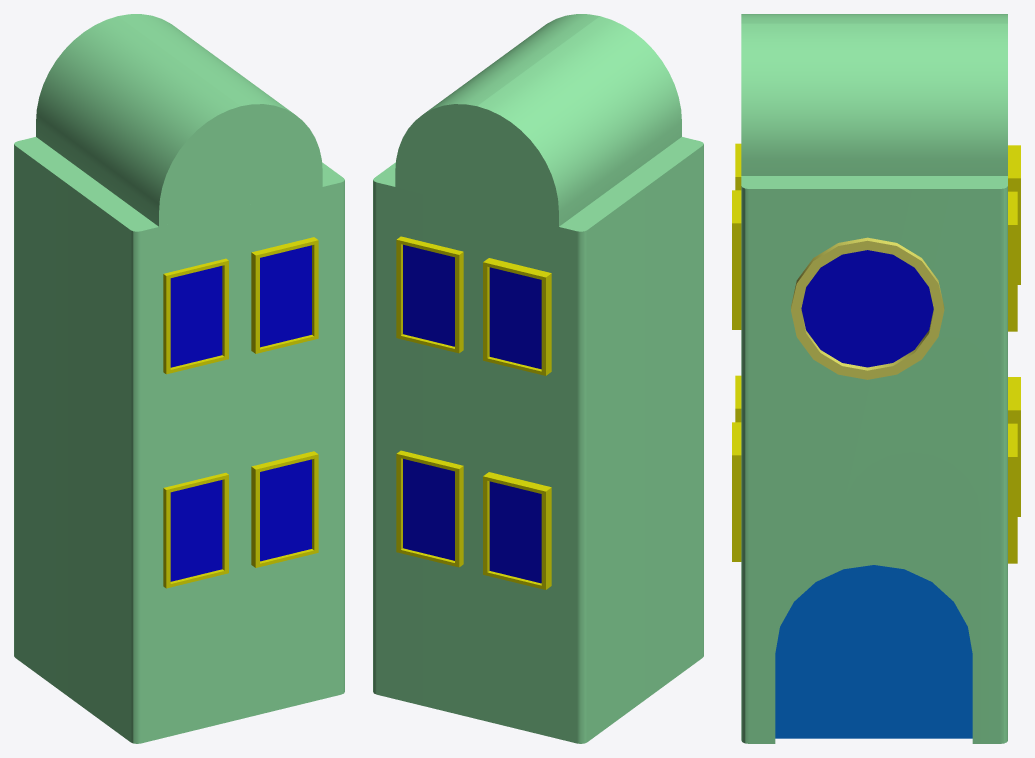
3 views of the same model, side by side, from view 1: azimuth 30°, elevation 25°; view 2: azimuth 150°, elevation 25°; view 3: azimuth 270°, elevation 25° (orthographic). The views are drawn at different scales.
Parts seen in each view (by area): view 1: polySurface97, pCube61, polySurface108, polySurface107, polySurface96, polySurface95; view 2: polySurface97, pCube61, polySurface115, polySurface112, polySurface114, polySurface113; view 3: polySurface97, pCube61, pTorus5, polySurface113, polySurface114, polySurface107, polySurface108, polySurface112, polySurface115.
Boxes of the visible parts, x1=… form: polySurface97: x1=14, y1=137, x2=344, y2=743; pCube61: x1=36, y1=14, x2=322, y2=226; polySurface108: x1=251, y1=451, x2=318, y2=567; polySurface107: x1=251, y1=237, x2=318, y2=353; polySurface96: x1=163, y1=472, x2=228, y2=588; polySurface95: x1=163, y1=258, x2=228, y2=374; polySurface97: x1=373, y1=137, x2=703, y2=743; pCube61: x1=395, y1=14, x2=681, y2=226; polySurface115: x1=483, y1=472, x2=551, y2=589; polySurface112: x1=483, y1=258, x2=551, y2=375; polySurface114: x1=396, y1=450, x2=463, y2=567; polySurface113: x1=396, y1=236, x2=463, y2=353; polySurface97: x1=741, y1=176, x2=1007, y2=743; pCube61: x1=741, y1=14, x2=1007, y2=175; pTorus5: x1=791, y1=237, x2=944, y2=379; polySurface113: x1=1008, y1=191, x2=1017, y2=331; polySurface114: x1=1008, y1=423, x2=1017, y2=563; polySurface107: x1=732, y1=190, x2=741, y2=329; polySurface108: x1=732, y1=422, x2=741, y2=561; polySurface112: x1=1008, y1=145, x2=1020, y2=284; polySurface115: x1=1008, y1=377, x2=1020, y2=516.
Bounding box in the file's own units: 2254 × 5987 × 2361.
